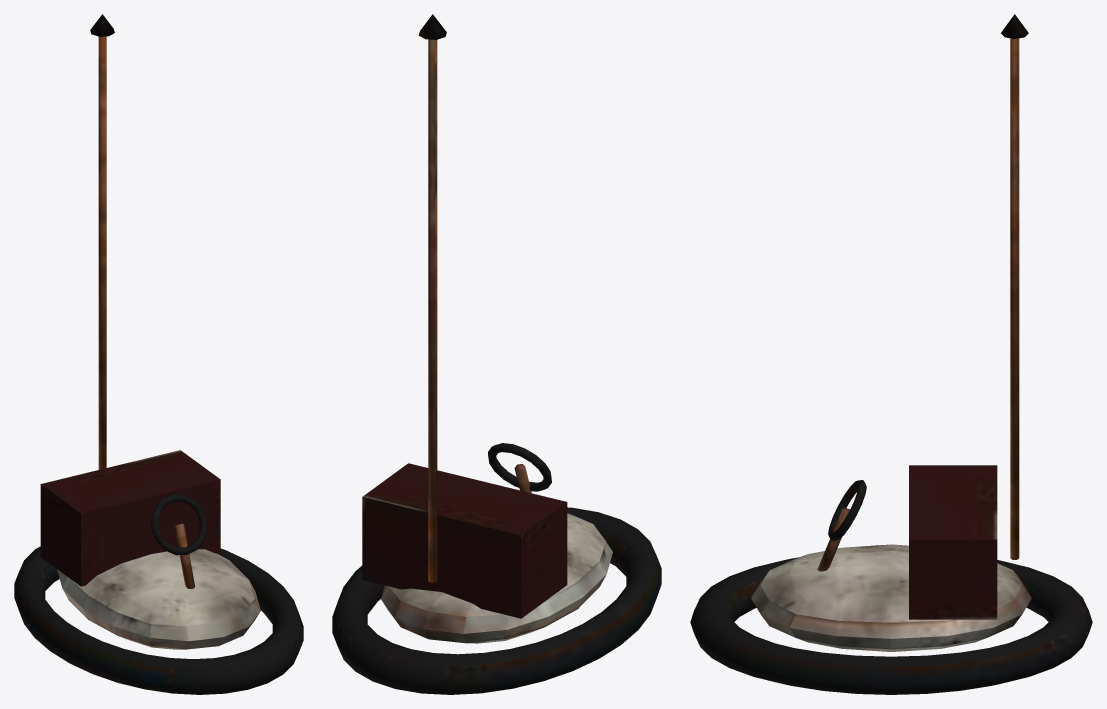
File: bumper_car.glb
The picture shows the model from 3 angles, left to right: view 1: azimuth 30°, elevation 25°; view 2: azimuth 150°, elevation 25°; view 3: azimuth 270°, elevation 25°; orthographic projection. The views are drawn at different scales.
Parts seen in each view (by area): view 1: Main; view 2: Main; view 3: Main.
Boxes of the visible parts, x1,y1,x2,y2 form: Main: (14,14,303,694); Main: (332,14,661,694); Main: (690,14,1092,694).
Bounding box in the file's own units: 1.61 × 3.93 × 2.28.
Materials: 1 (1 with a texture image).
